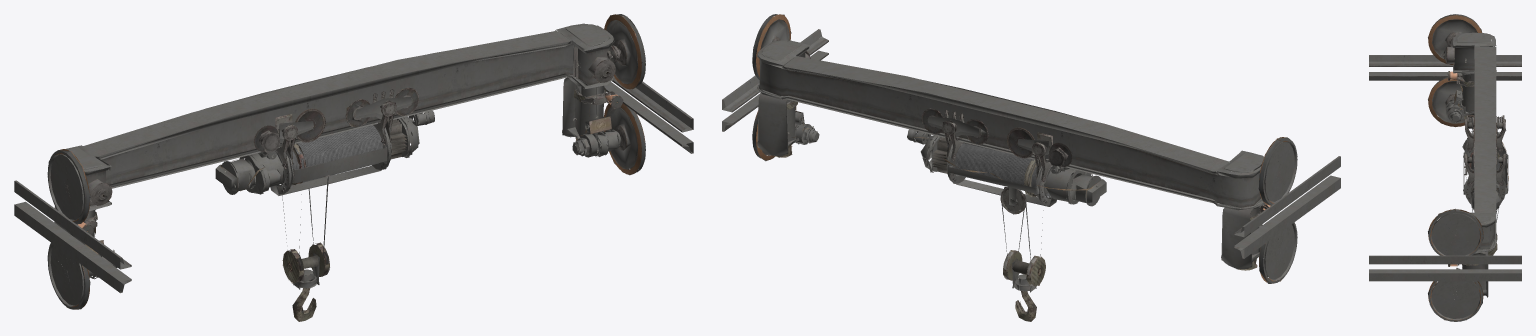
The model's file is ph_overhead_crane.glb.
3 renders of one model, left to right at view 1: azimuth 30°, elevation 25°; view 2: azimuth 150°, elevation 25°; view 3: azimuth 270°, elevation 25°, orthographic. The views are drawn at different scales.
Parts seen in each view (by area): view 1: overhead_crane_rails; view 2: overhead_crane_rails; view 3: overhead_crane_rails.
Boxes of the visible parts, bbox=[...] form: overhead_crane_rails: bbox=[14, 14, 693, 321]; overhead_crane_rails: bbox=[722, 14, 1340, 321]; overhead_crane_rails: bbox=[1369, 14, 1521, 321].
Bounding box in the file's own units: 12.49 × 5.15 × 4.
2 materials, 2 textured.
